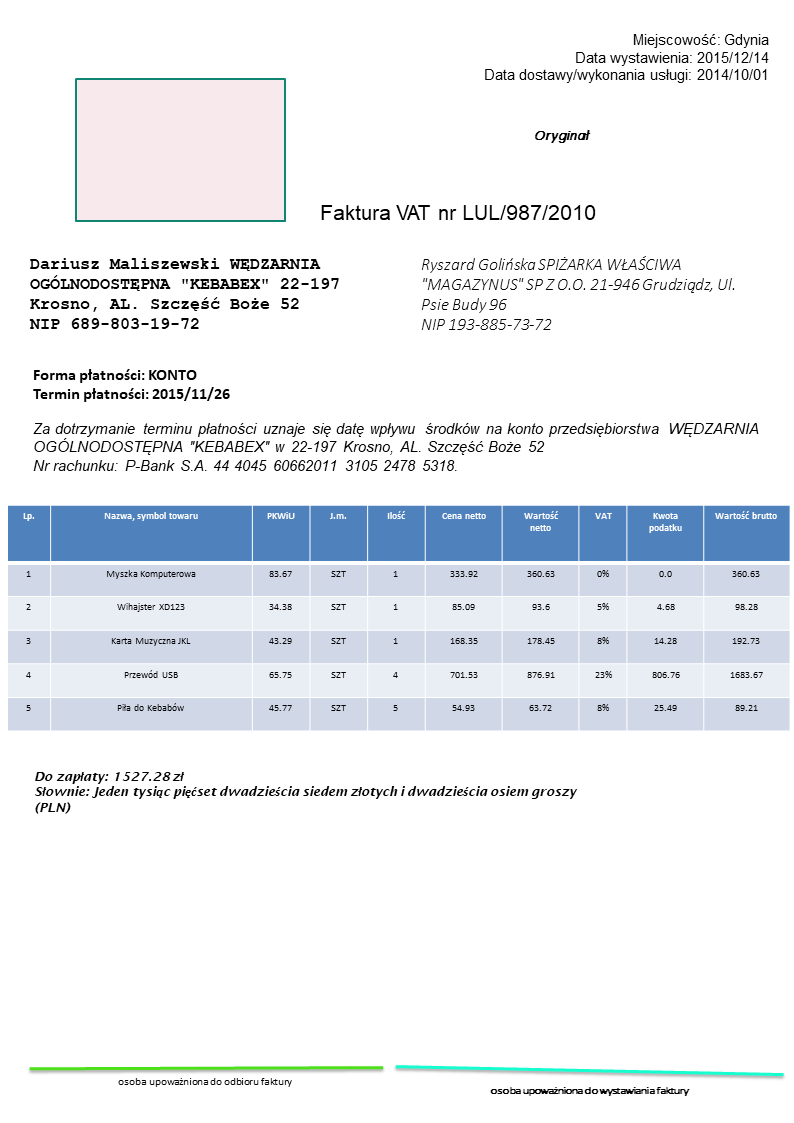Table: (7, 503, 790, 731)
TextBox: (30, 420, 765, 475), (31, 769, 579, 817), (418, 254, 737, 335), (28, 254, 342, 333), (482, 30, 774, 85), (30, 363, 232, 403), (316, 200, 596, 223), (487, 1084, 690, 1098), (115, 1076, 294, 1089), (532, 126, 592, 145)
